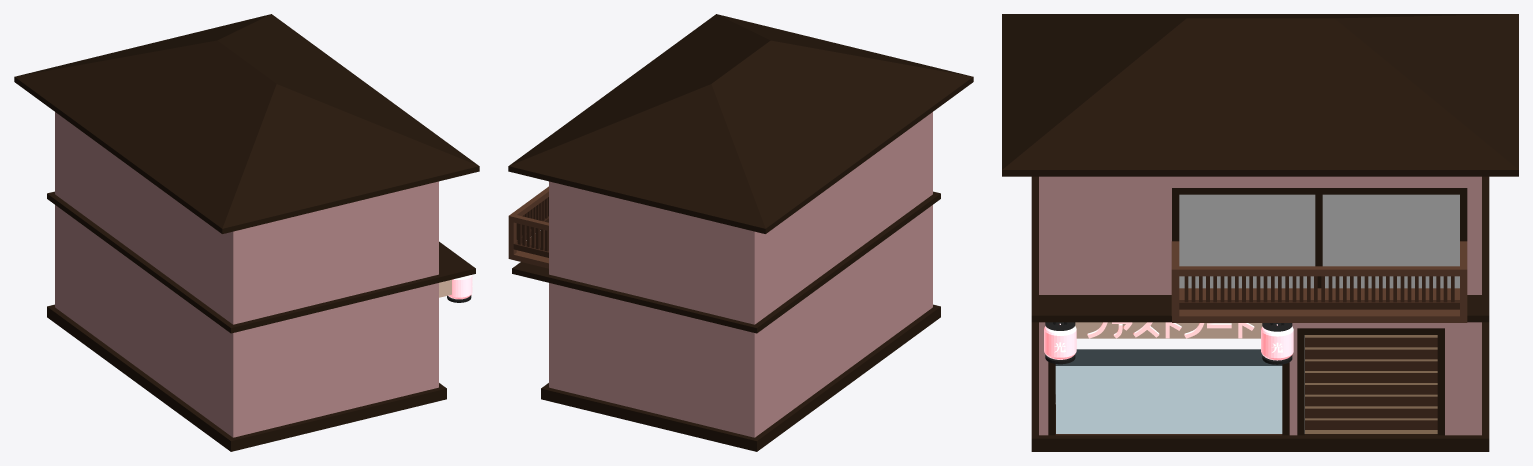
File: tokyo-shop-b.glb
3 renders of one model, left to right at view 1: azimuth 30°, elevation 25°; view 2: azimuth 150°, elevation 25°; view 3: azimuth 270°, elevation 25°, orthographic. The views are drawn at different scales.
Parts seen in each view (by area): view 1: casa_1, Cylinder_4; view 2: casa_1; view 3: casa_1, JapaneseText_0, Cylinder.001_9, Cylinder_4.
Part boxes in pixels (bbox=[...]): casa_1: bbox=[14, 14, 479, 451]; Cylinder_4: bbox=[448, 275, 472, 299]; casa_1: bbox=[508, 14, 973, 451]; casa_1: bbox=[1002, 14, 1518, 451]; JapaneseText_0: bbox=[1087, 322, 1254, 338]; Cylinder.001_9: bbox=[1261, 324, 1293, 360]; Cylinder_4: bbox=[1044, 323, 1076, 359].
Bounding box in the file's own units: 5.4 × 5.5 × 7.
4 materials, 1 textured.
